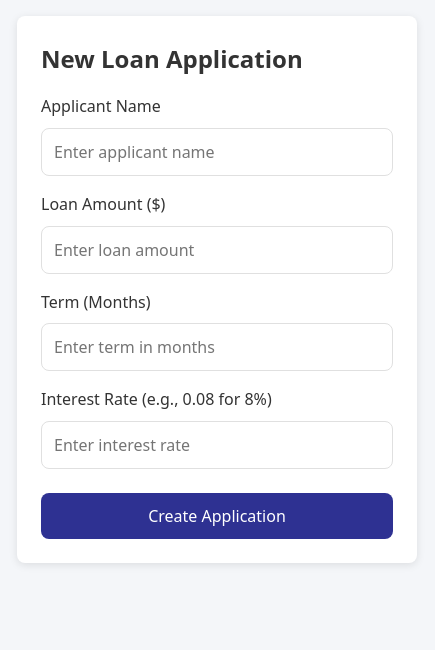
LoanForm › shows validation error when amount is missing or invalid
Type "John" into the field with id "applicantName".
click(217, 152); type("John")  # box [41,128,393,176]
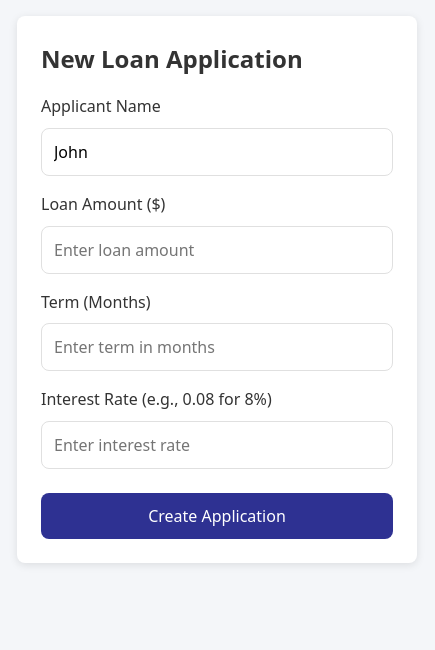
Submit the form, box [41,94,393,539]
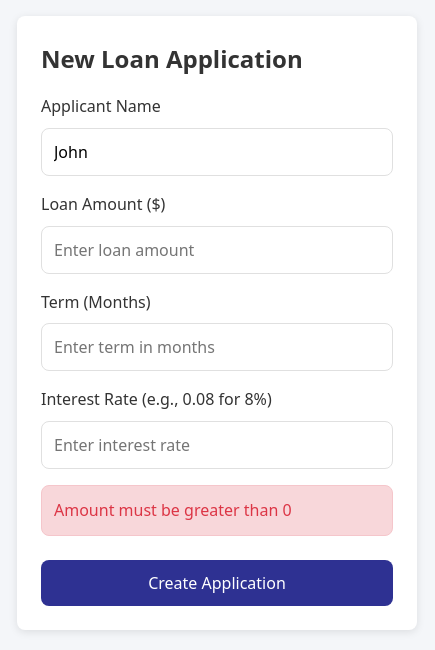
Now the text "Amount must be greater than 0" is shown, box [41,485,393,536]
